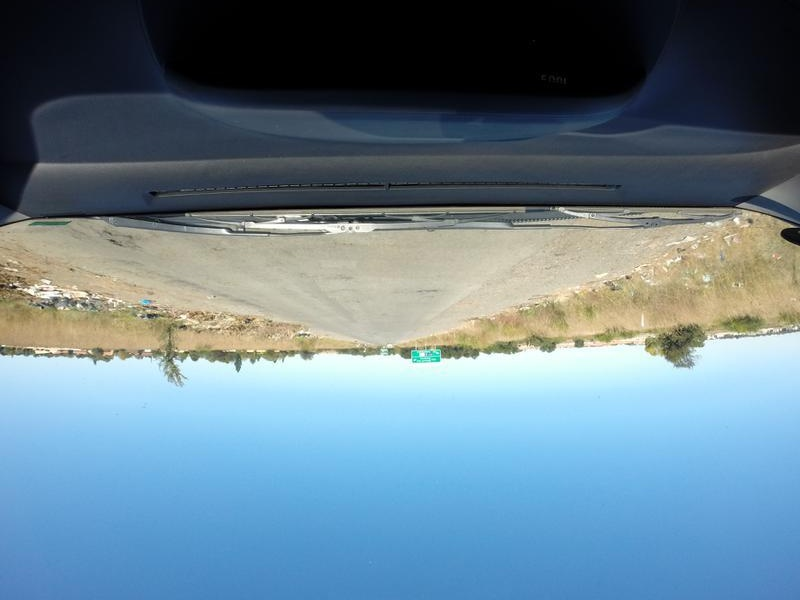pothole: (95, 226, 136, 264), (407, 277, 442, 294)
